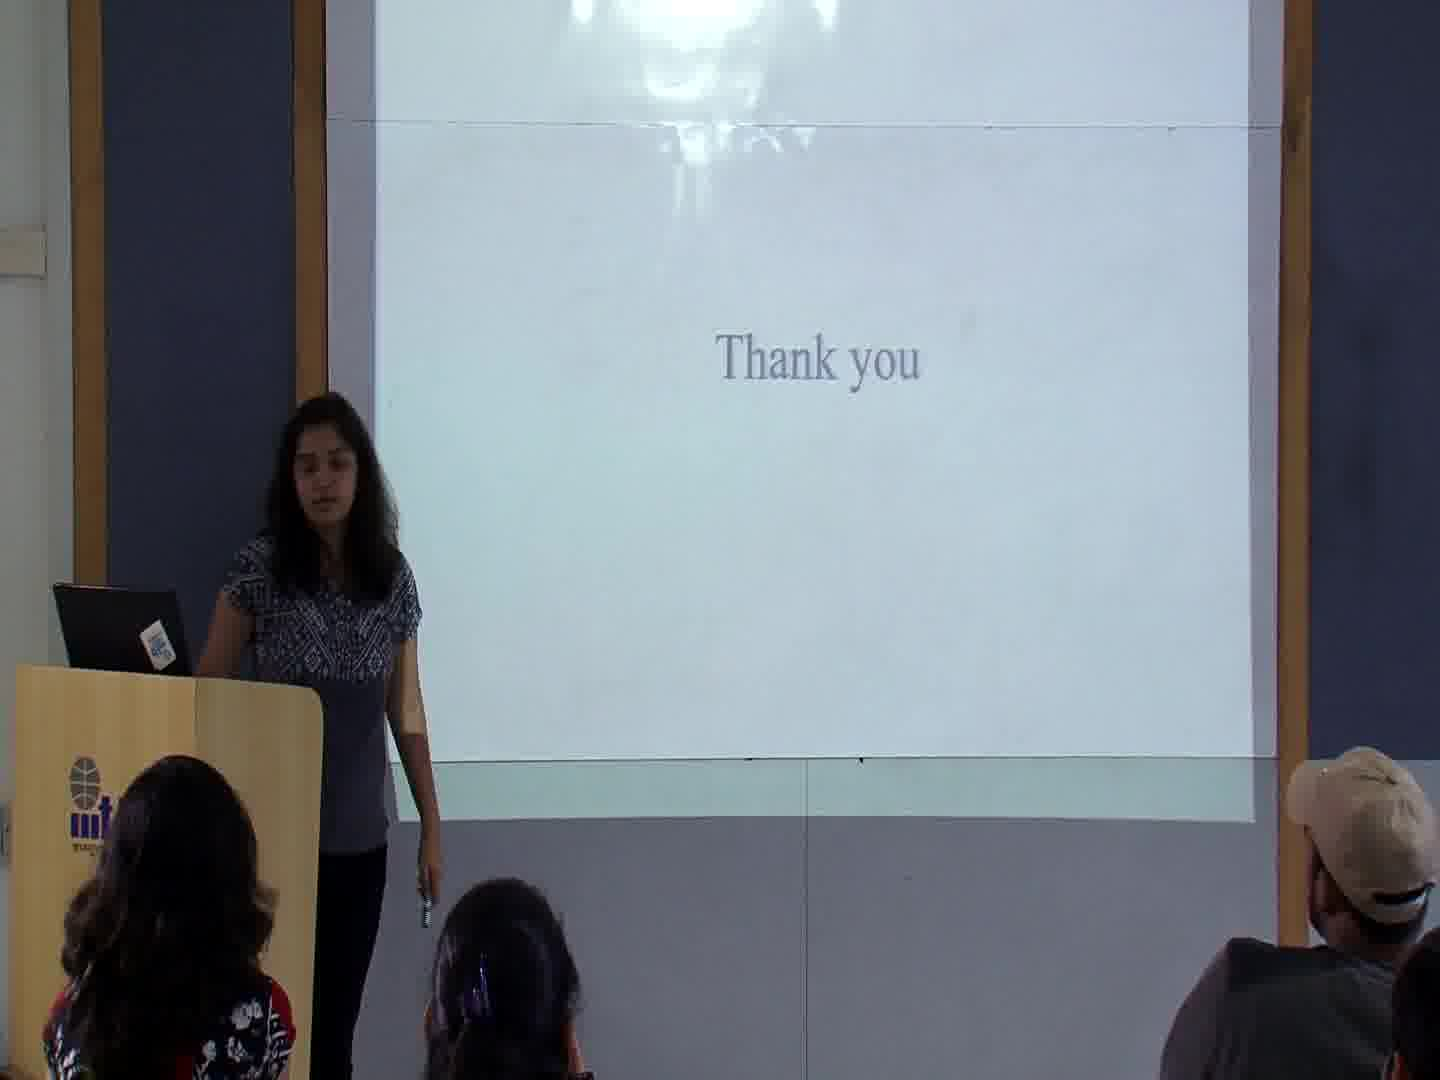slide: (375, 1, 1256, 820)
